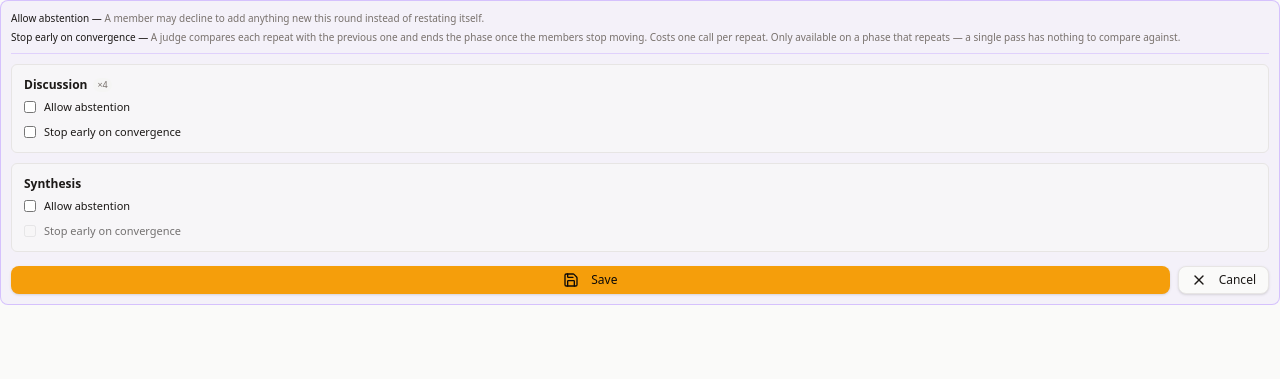
Test: GroupPhaseEditor › labels every convergence control for a screen reader
The width and height of the screenshot is (1280, 379).
Click the checkbox with test id "phase-convergence-enable-0" at (30, 132), box [24,126,36,138]
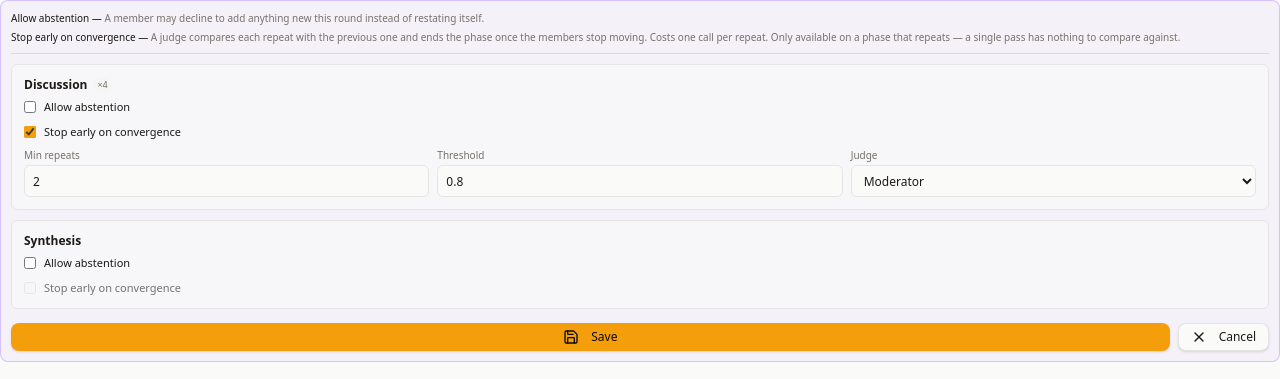
Expected: the number field labelled "Min repeats" is shown, [24,165,429,197]
Expected: the number field labelled "Threshold" is shown, [437,165,843,197]
Expected: the dropdown labelled "Judge" is shown, [851,165,1256,197]
